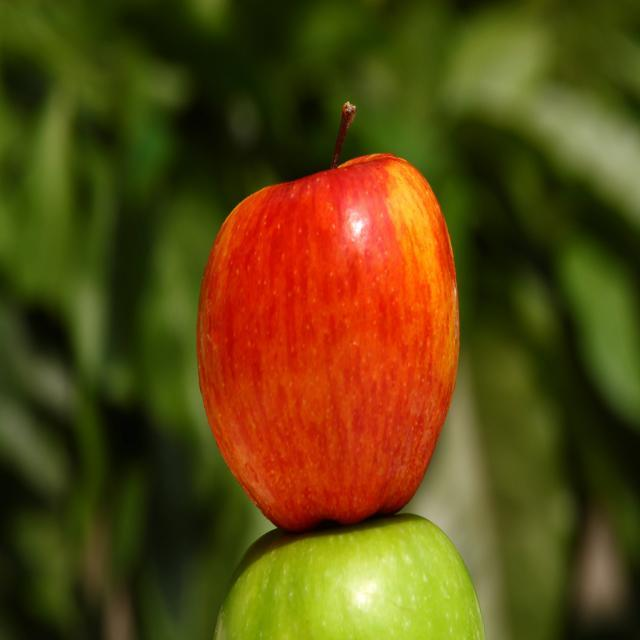Apple: (192, 101, 463, 532)
